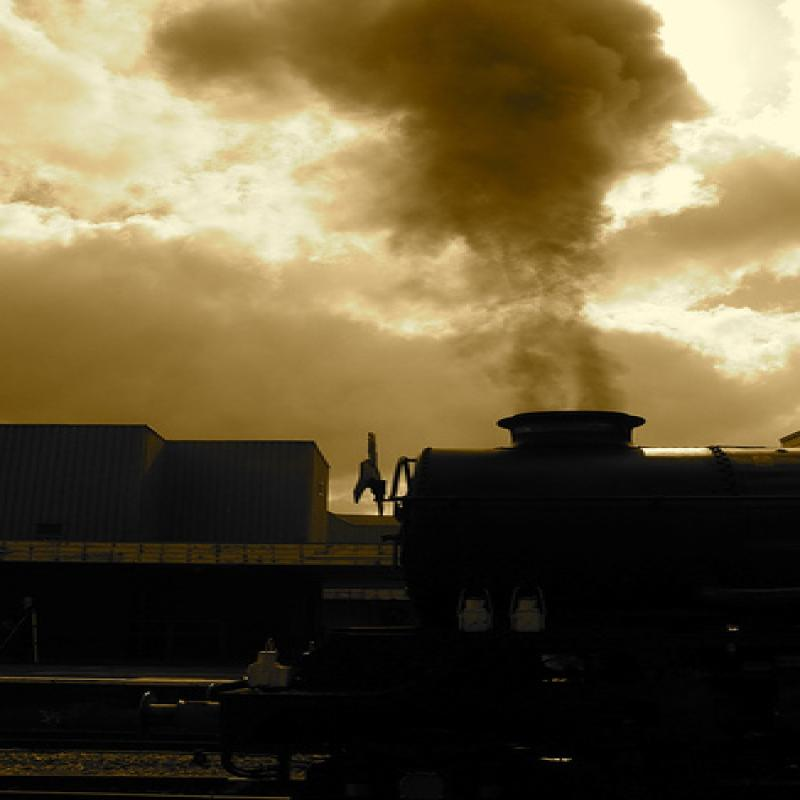train: (136, 411, 799, 800)
